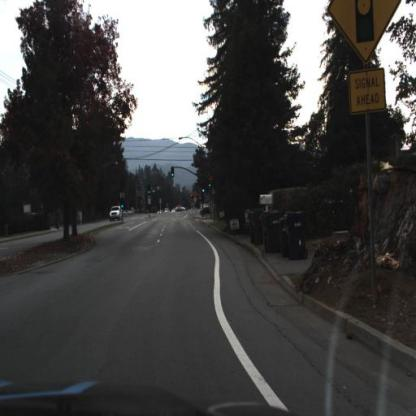car: (109, 203, 123, 226), (110, 204, 124, 225)
trafficLight-GreenLeft: (121, 198, 126, 213)
